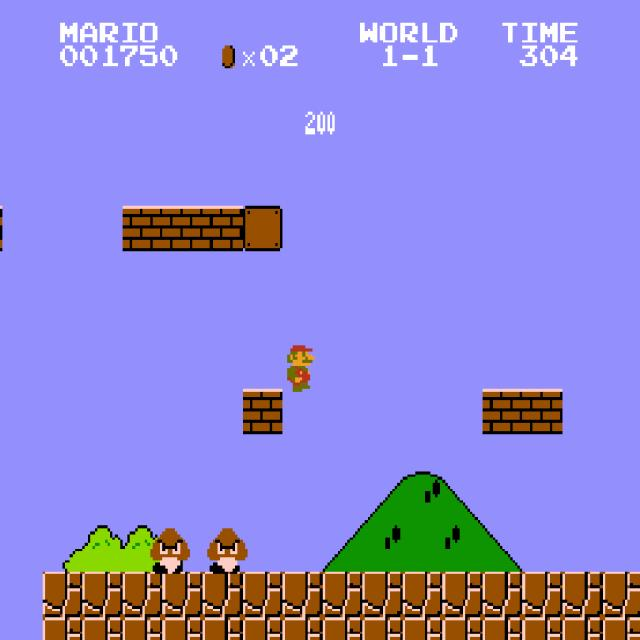brick_block: (122, 206, 163, 251), (162, 206, 203, 251), (202, 206, 243, 251), (242, 389, 283, 434), (482, 389, 523, 434), (522, 389, 563, 434), (0, 205, 2, 251)
empty_block: (242, 206, 283, 251)
goomba: (205, 526, 248, 574), (148, 526, 190, 574)
little_mario: (277, 343, 320, 391)
undestructible_block: (42, 572, 83, 617), (82, 572, 123, 617), (122, 572, 163, 617), (162, 572, 203, 617), (202, 572, 243, 617), (242, 572, 283, 617), (282, 572, 323, 617), (322, 572, 363, 617), (362, 572, 403, 617), (402, 572, 443, 617), (442, 572, 483, 617), (482, 572, 523, 617), (522, 572, 563, 617), (562, 572, 603, 617), (603, 572, 640, 617), (42, 617, 83, 640), (82, 617, 123, 640), (122, 617, 163, 640), (162, 617, 203, 640), (202, 617, 243, 640), (242, 617, 283, 640), (282, 617, 323, 640), (322, 617, 363, 640), (362, 617, 403, 640), (402, 617, 443, 640), (442, 617, 483, 640), (482, 617, 523, 640), (522, 617, 563, 640), (562, 617, 603, 640), (603, 617, 640, 640)
